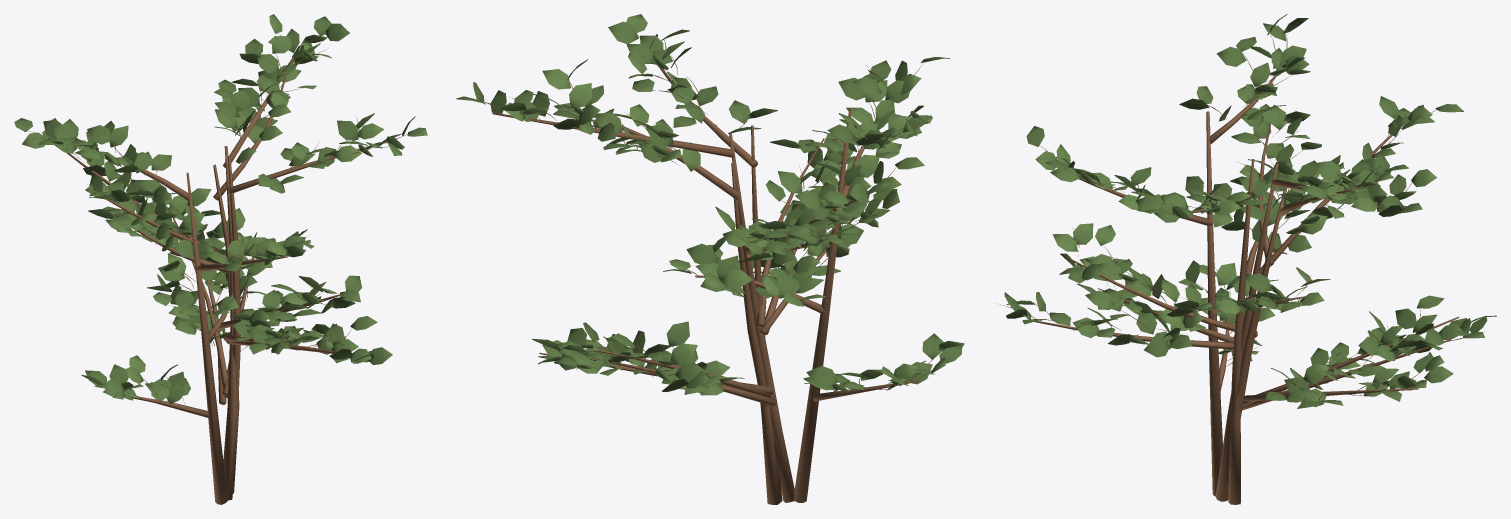
Rendered from Arbousier_0_LOD1.fbx.
The picture shows the model from 3 angles, left to right: view 1: azimuth 30°, elevation 25°; view 2: azimuth 150°, elevation 25°; view 3: azimuth 270°, elevation 25°; orthographic projection. The views are drawn at different scales.
Visible parts, largest first — view 1: Arbousier_0_LOD1; view 2: Arbousier_0_LOD1; view 3: Arbousier_0_LOD1.
Part boxes in pixels (x1,y1,x2,y2): Arbousier_0_LOD1: (14, 14, 427, 504); Arbousier_0_LOD1: (456, 14, 964, 504); Arbousier_0_LOD1: (1000, 14, 1496, 504).
Bounding box in the file's own units: 283 × 306 × 340.
